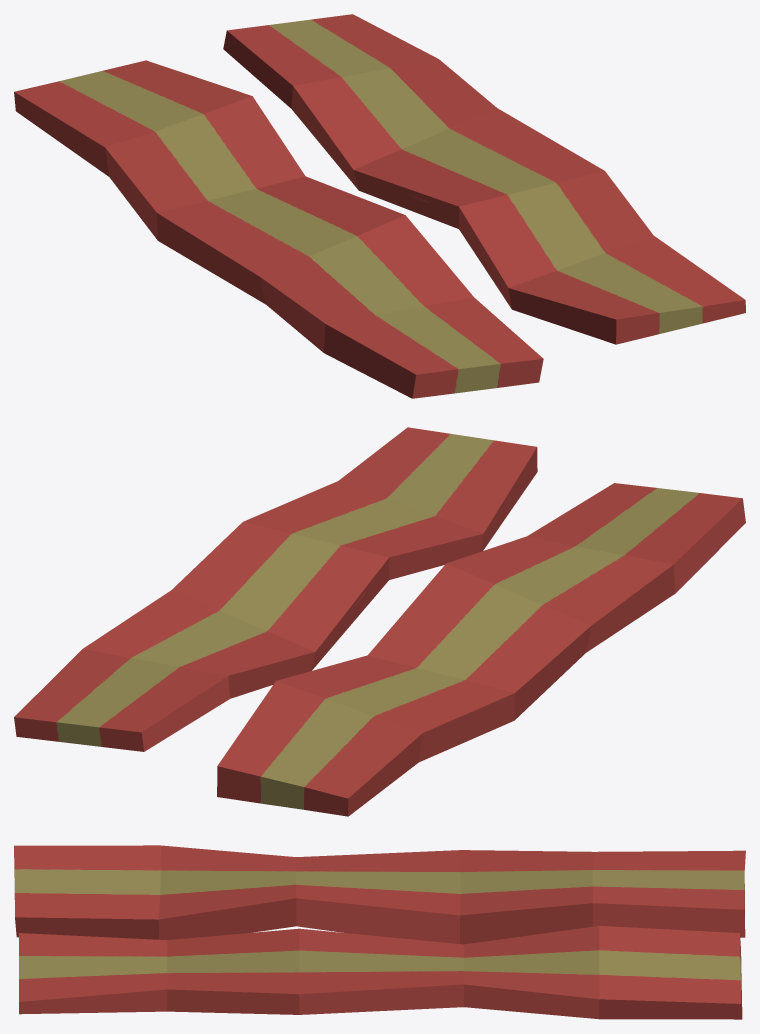
Rendered from Bacon.fbx.
The picture shows the model from 3 angles, top to bottom: view 1: azimuth 30°, elevation 25°; view 2: azimuth 150°, elevation 25°; view 3: azimuth 270°, elevation 25°; orthographic projection. The views are drawn at different scales.
Parts seen in each view (by area): view 1: Plane; view 2: Plane; view 3: Plane.
Boxes of the visible parts, x1,y1,x2,y2 form: Plane: [14, 14, 745, 398]; Plane: [14, 427, 745, 816]; Plane: [14, 845, 745, 1019].
Bounding box in the file's own units: 175 × 27.77 × 336.
